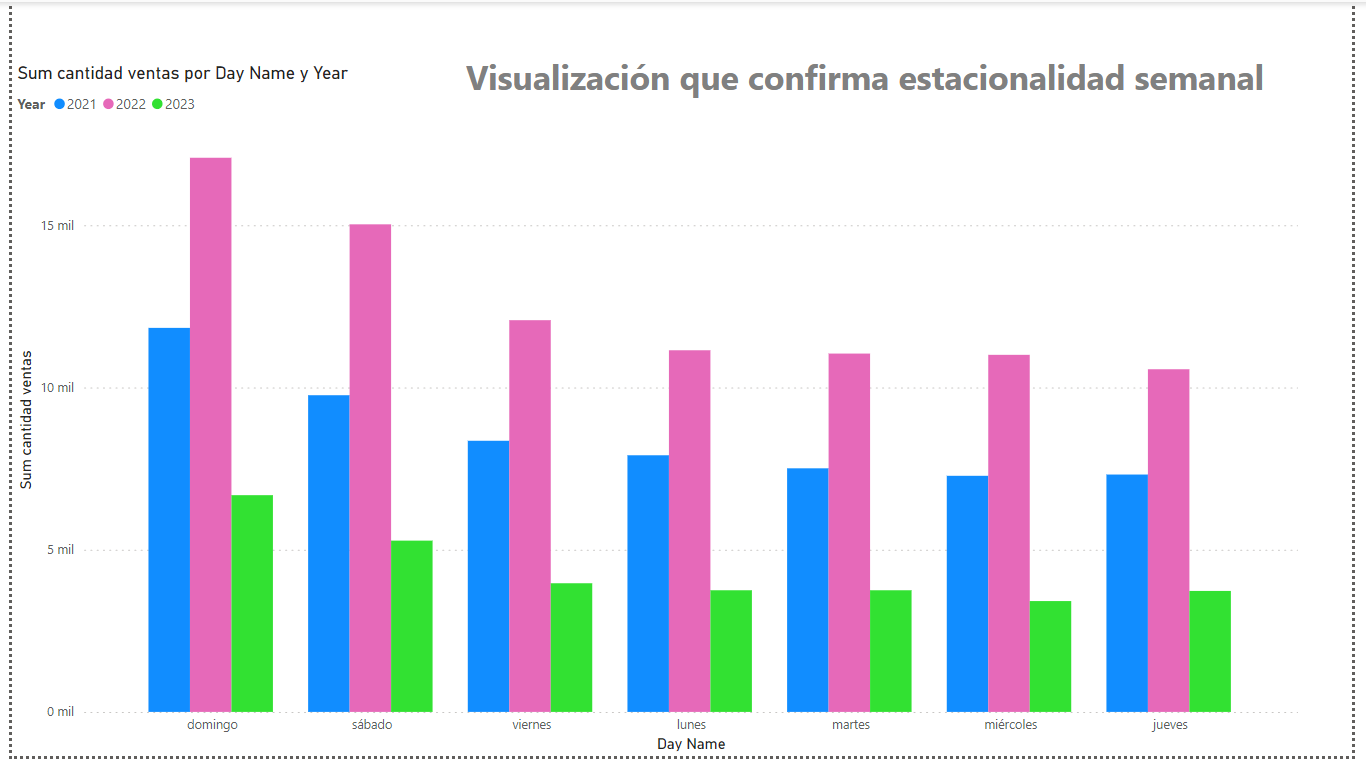

Layout of this report page (visuals, bound fields, positions):
{"tool":"powerbi","page":{"name":"HIST II","canvas":[1280,720],"ordinal":1},"visuals":[{"type":"clusteredColumnChart","fields":{"Category":["calendario_dias.Day Name"],"Y":["Medidas.Sum cantidad ventas"],"Series":["calendario_dias.Year"]},"box":[0,57.3,1232.7,663.3],"z":0},{"type":"textbox","box":[427.9,44.5,787.4,55.7],"z":1000}]}

Visuals, with their boxes in screenshot pixels (x1, y1, x2, y2), scaled from the page's 1280x720 canvas onto the 1366x765 screenshot:
clusteredColumnChart - calendario_dias.Day Name x Medidas.Sum cantidad ventas: 0:61:1316:764
textbox: 457:47:1297:106
